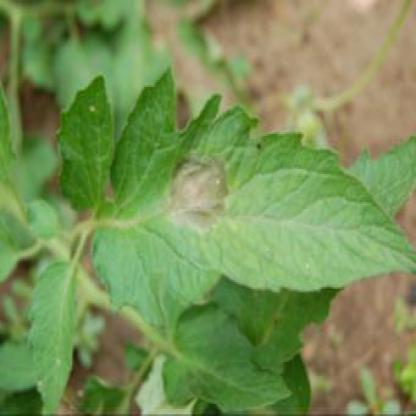Tomato leaf late blight: (82, 118, 415, 332)
